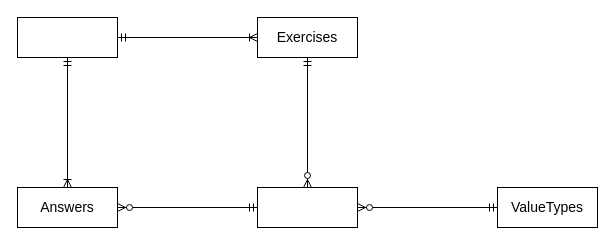
The diagram is 615 pixels wide and 245 high, and some of its shapes have lost their labels. The centre of each missing label's shape, as x and y in pixels:
"Fulfillments" belongs at (x=67, y=37).
"QuestionFields" belongs at (x=307, y=207).
